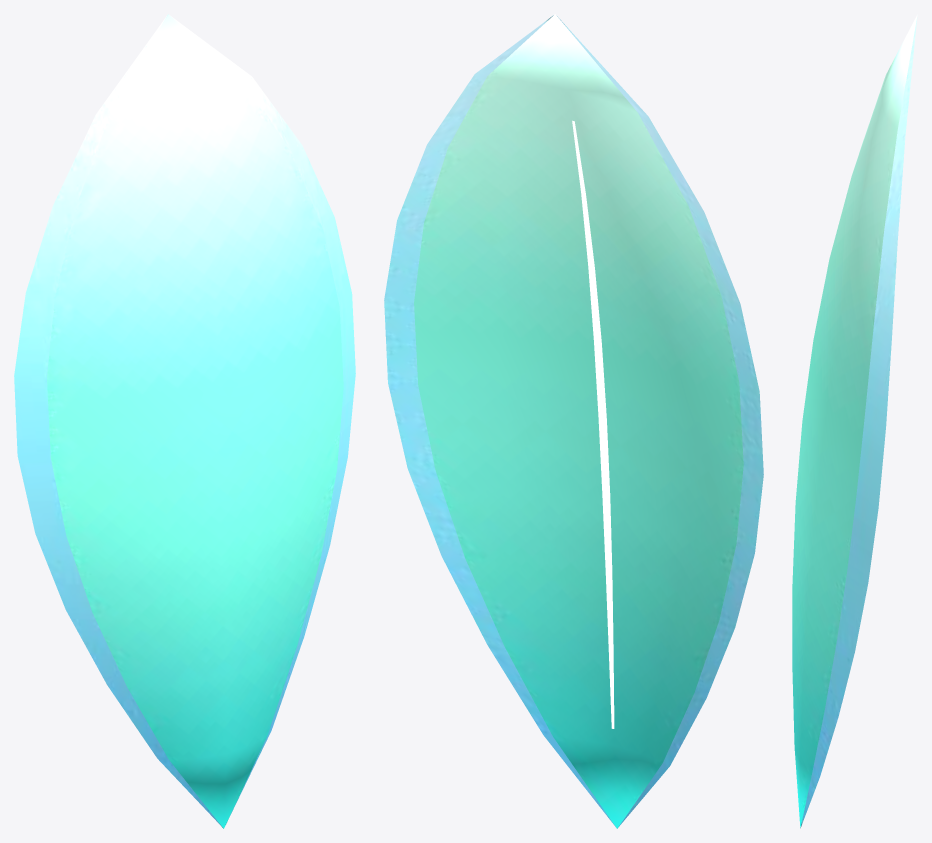
3 renders of one model, left to right at view 1: azimuth 30°, elevation 25°; view 2: azimuth 150°, elevation 25°; view 3: azimuth 270°, elevation 25°, orthographic. The views are drawn at different scales.
Parts seen in each view (by area): view 1: glow_Petal_Mint_To_Teal, glow_Petal_Faint_Violet_Edge; view 2: glow_Petal_Mint_To_Teal, glow_Petal_Faint_Violet_Edge, glow_Petal_Luminous_Midvein; view 3: glow_Petal_Mint_To_Teal, glow_Petal_Faint_Violet_Edge.
Boxes of the visible parts, box(x1,y1,x2,y2) form: glow_Petal_Mint_To_Teal: box(47, 14, 343, 828); glow_Petal_Faint_Violet_Edge: box(14, 15, 355, 827); glow_Petal_Mint_To_Teal: box(414, 14, 743, 828); glow_Petal_Faint_Violet_Edge: box(384, 15, 763, 827); glow_Petal_Luminous_Midvein: box(572, 120, 614, 728); glow_Petal_Mint_To_Teal: box(792, 14, 917, 827); glow_Petal_Faint_Violet_Edge: box(800, 15, 917, 827).
Bounding box in the file's own units: 0.4207 × 0.92 × 0.1282.
3 materials, 2 textured.
